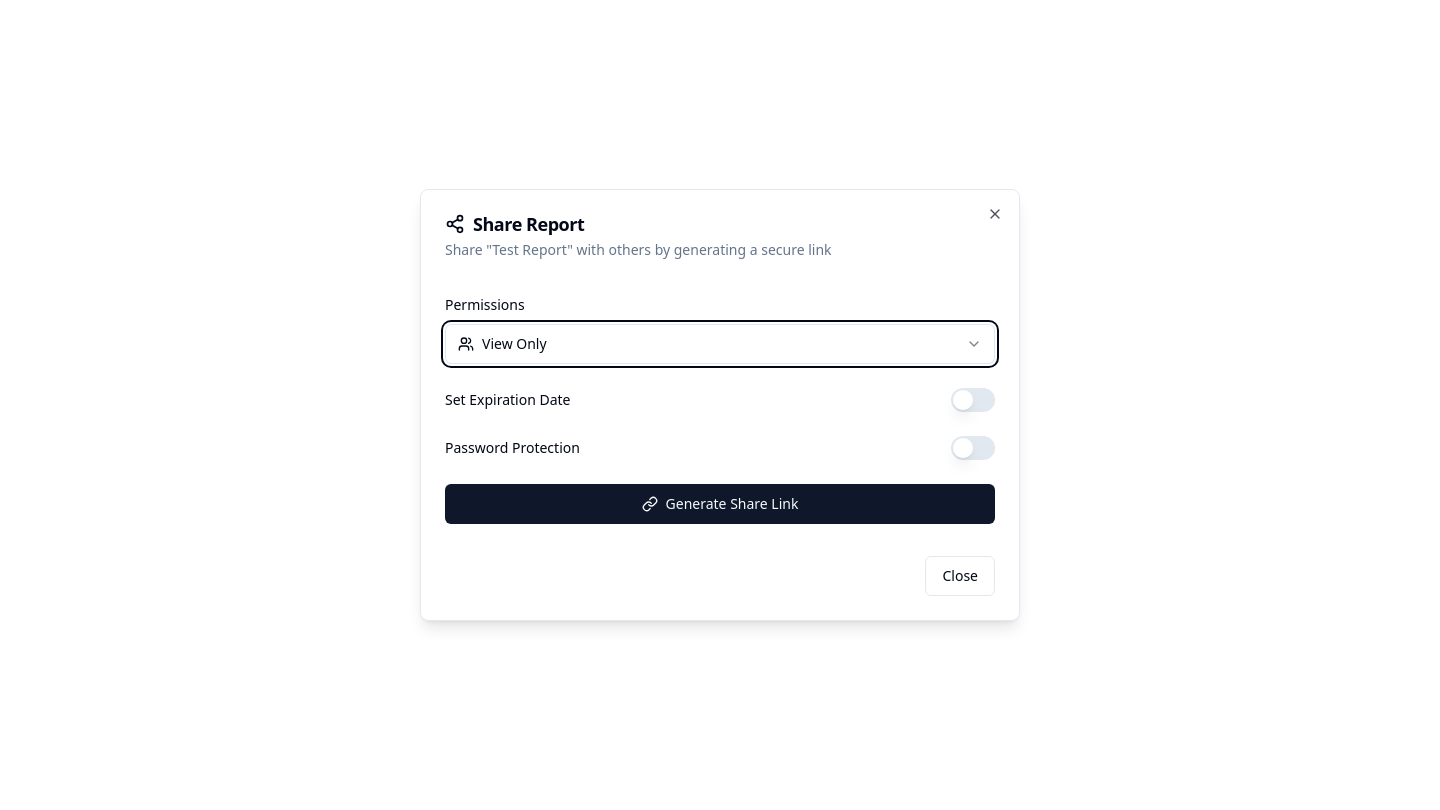
Test: ReportSharingDialog › shows password input when password protection is enabled
Click the switch named "password protection" in the row of "Password Protection" at {"x": 973, "y": 448}, box [951,436,995,460]
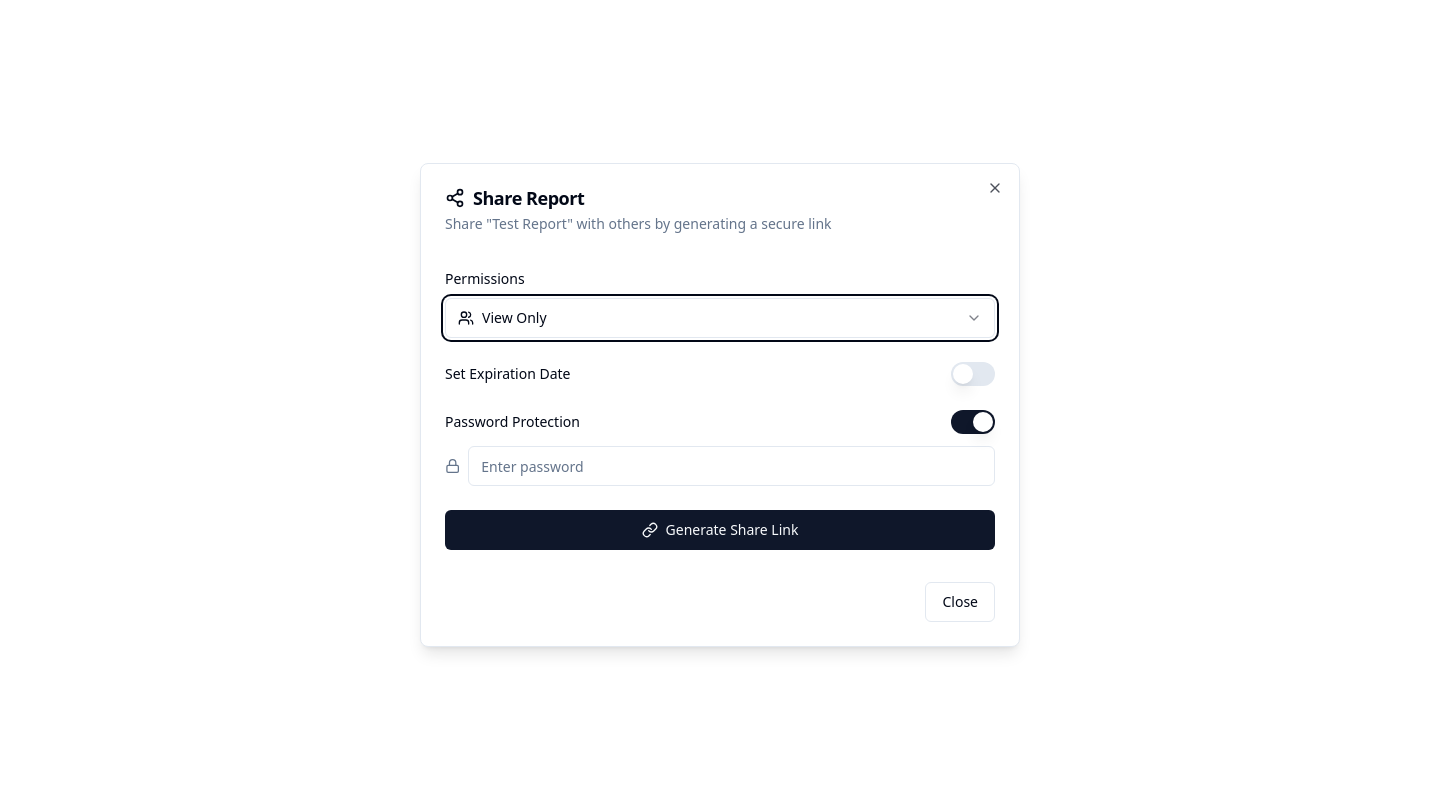
Check: the password field with placeholder "Enter password" is shown, box [468,446,995,486]
